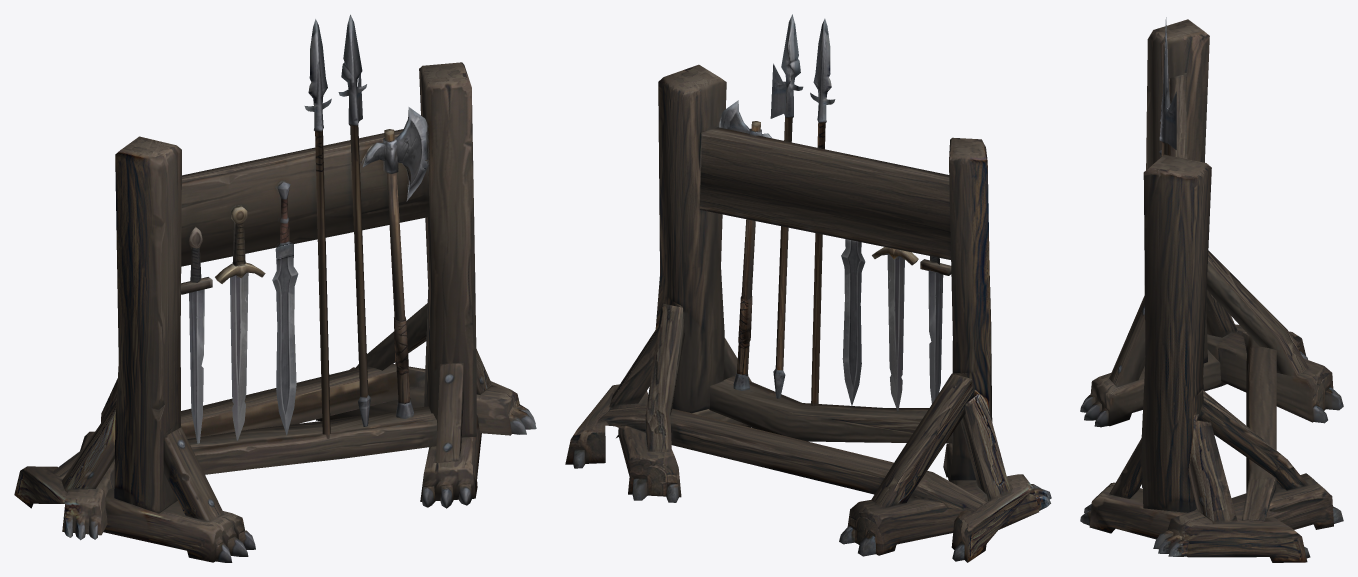
File: rastrelliera.glb
The picture shows the model from 3 angles, left to right: view 1: azimuth 30°, elevation 25°; view 2: azimuth 150°, elevation 25°; view 3: azimuth 270°, elevation 25°; orthographic projection. The views are drawn at different scales.
Visible parts, largest first — view 1: rastrelliera; view 2: rastrelliera; view 3: rastrelliera.
Part boxes in pixels (left/top/right/bottom): rastrelliera: left=14, top=14, right=536, bottom=562; rastrelliera: left=565, top=14, right=1051, bottom=562; rastrelliera: left=1080, top=17, right=1343, bottom=562.
Bounding box in the file's own units: 0.9995 × 0.9849 × 0.5142.
1 material, 1 textured.
